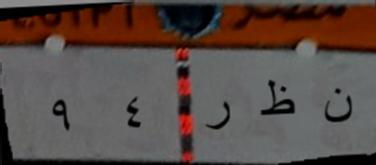4: (112, 90, 156, 140)
9: (36, 88, 82, 138)
Thaa: (252, 74, 300, 125)
noon: (318, 77, 358, 132)
raa: (200, 90, 239, 139)
